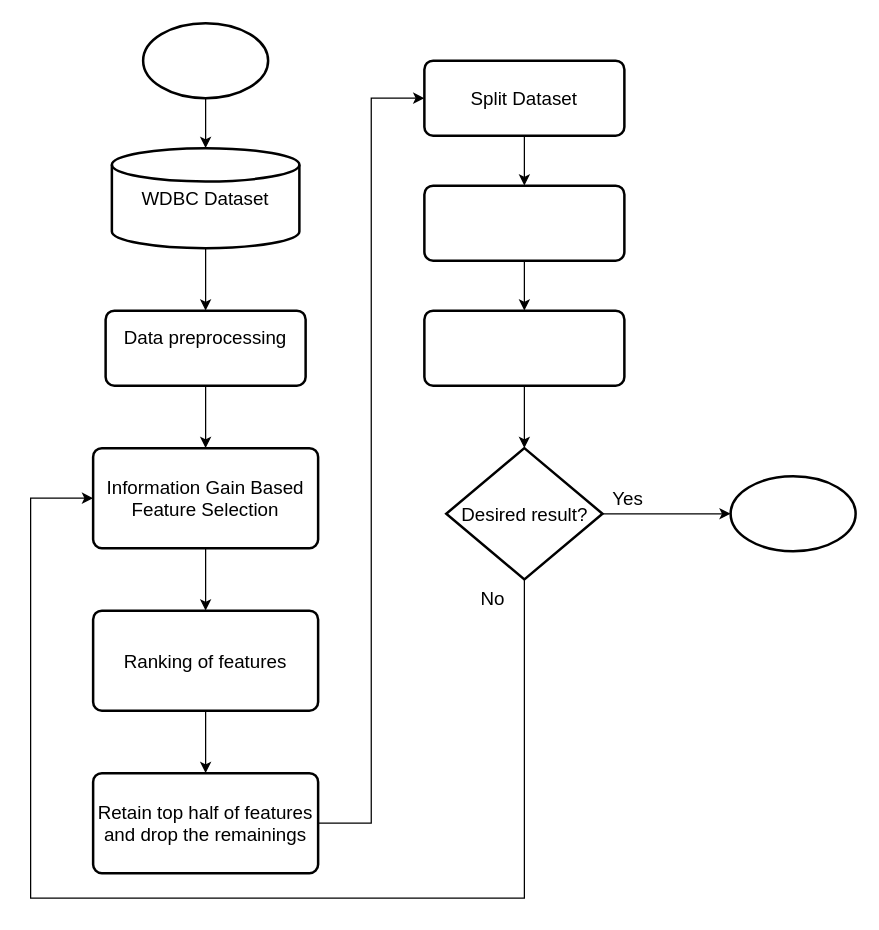
This 879x930 diagram has some shape labels left out. Here are the shapes that lost their labels. From the top down, the centre of each, then its label:
[205,60]: Start
[523,222]: Classification
[523,347]: Performance Evaluation
[792,513]: End
